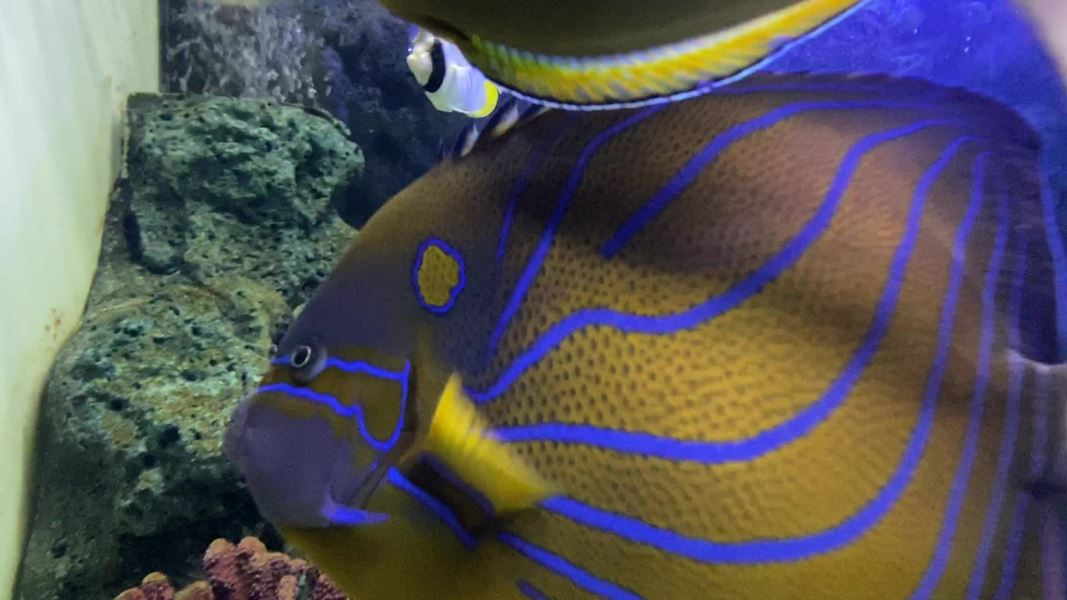Blue ring angelfish: (163, 48, 1034, 600)
